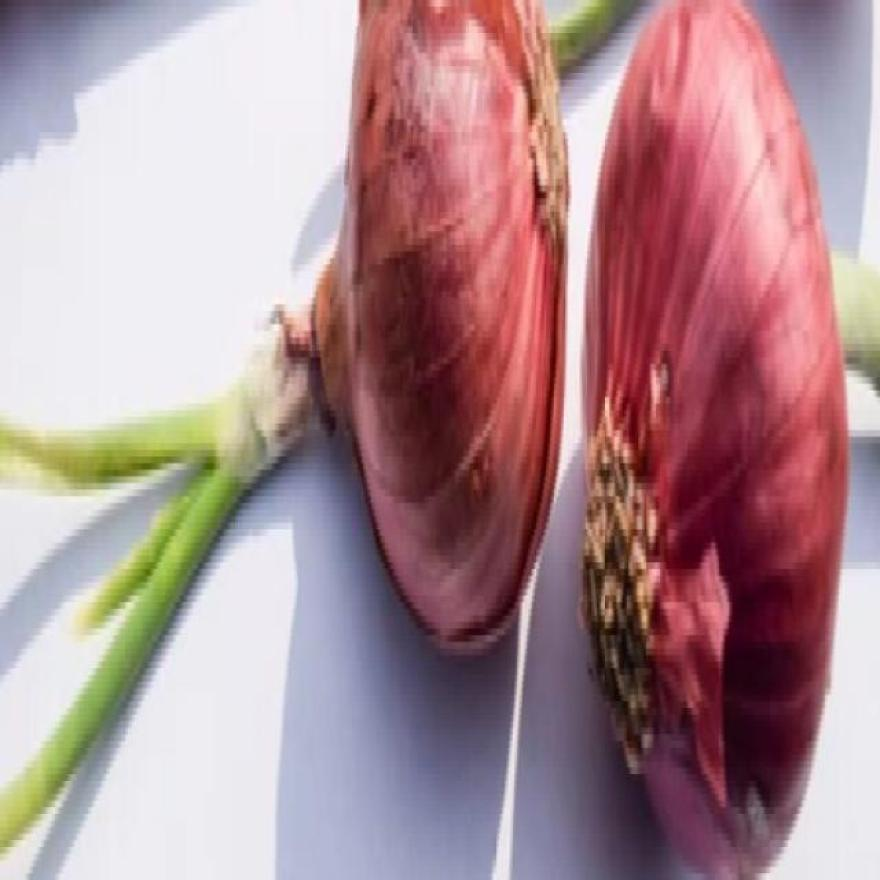Sprouted: (76, 271, 331, 668)
